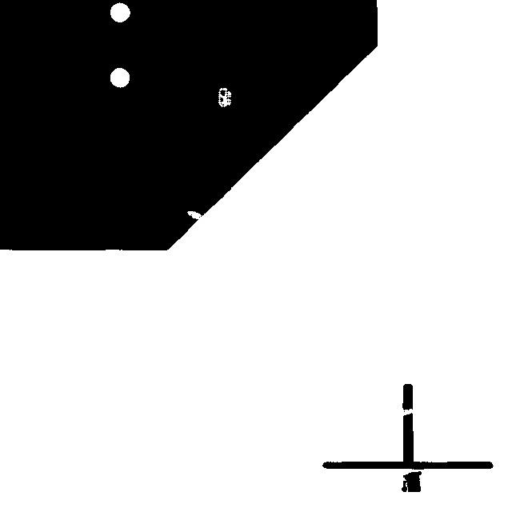copper: (394, 463, 429, 498)
mousebite: (179, 203, 211, 227)
open: (390, 401, 422, 424)
pin-hole: (210, 80, 238, 114)
